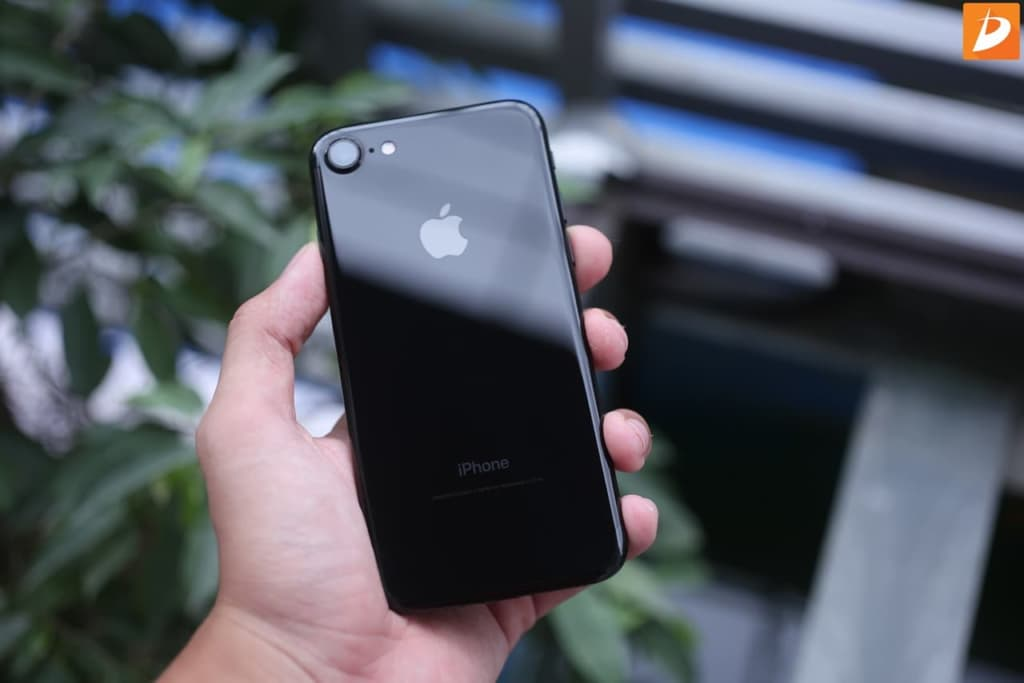iphone: (303, 100, 636, 628)
